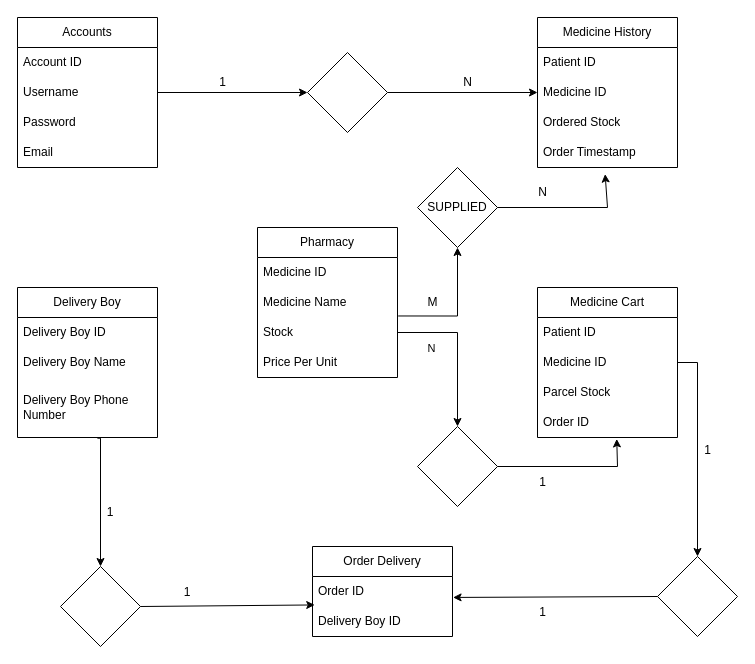
This 755x664 diagram has some shape labels left out. The centre of each missing label's shape, as x and y in pixels:
"ADDED_TO" belongs at pixel 457 466.
"DELIVERS" belongs at pixel 100 606.
"HAS" belongs at pixel 347 92.
"ORDER PLACED" belongs at pixel 697 596.
